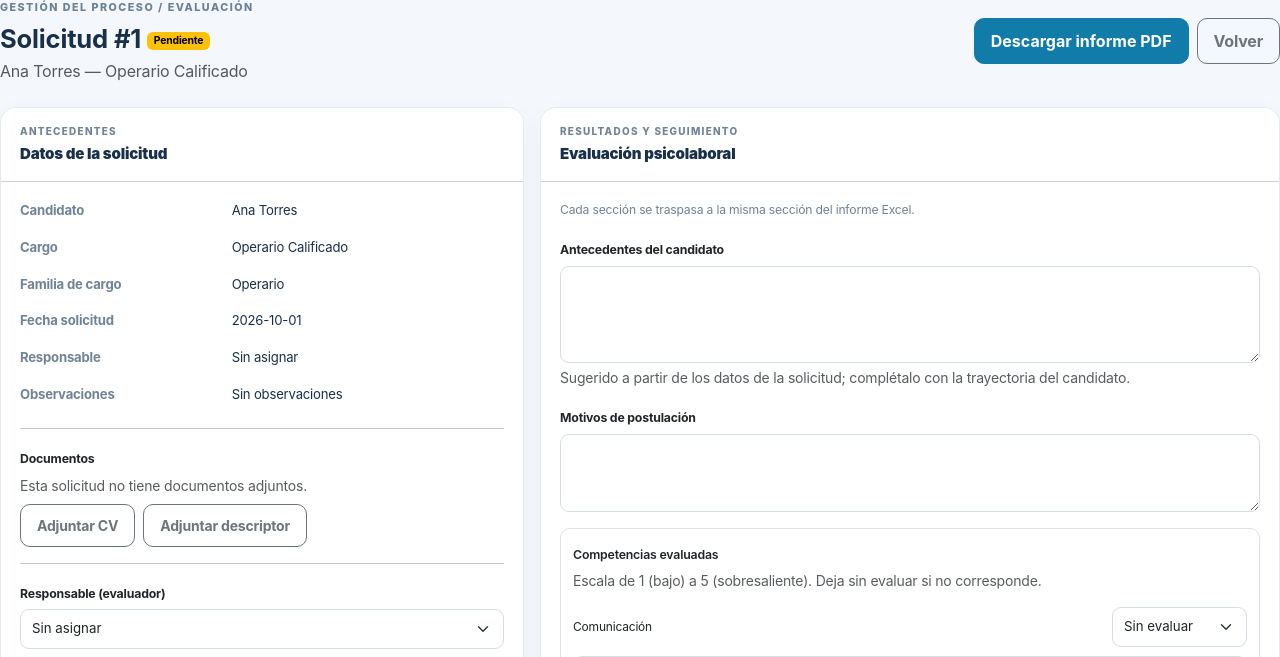
Scenario: SolicitudDetallePage › asigna un responsable desde el detalle
Expected: the heading "Solicitud #1 Pendiente" is shown, [0,23,210,54]
Select "María Victoria" in the dropdown labelled "Responsable (evaluador)" at (262, 629), box [20,609,504,649]
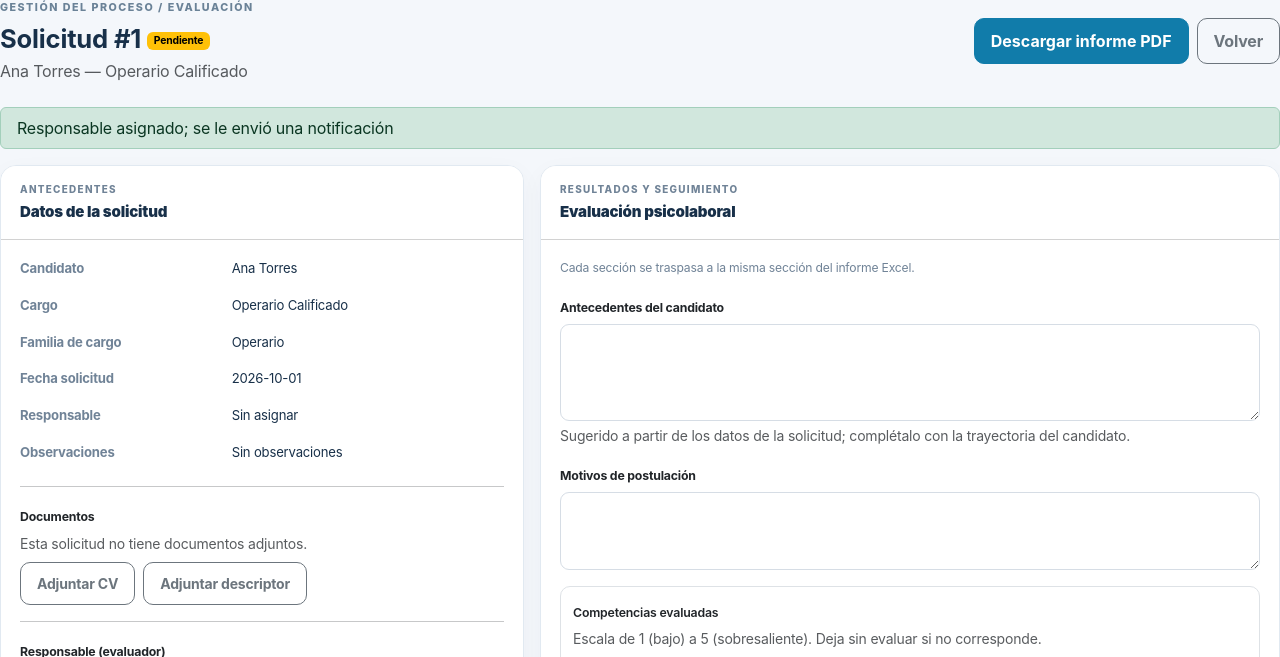
Expected: the text "Responsable asignado; se le envió una notificación" is shown, [0,107,1279,149]
